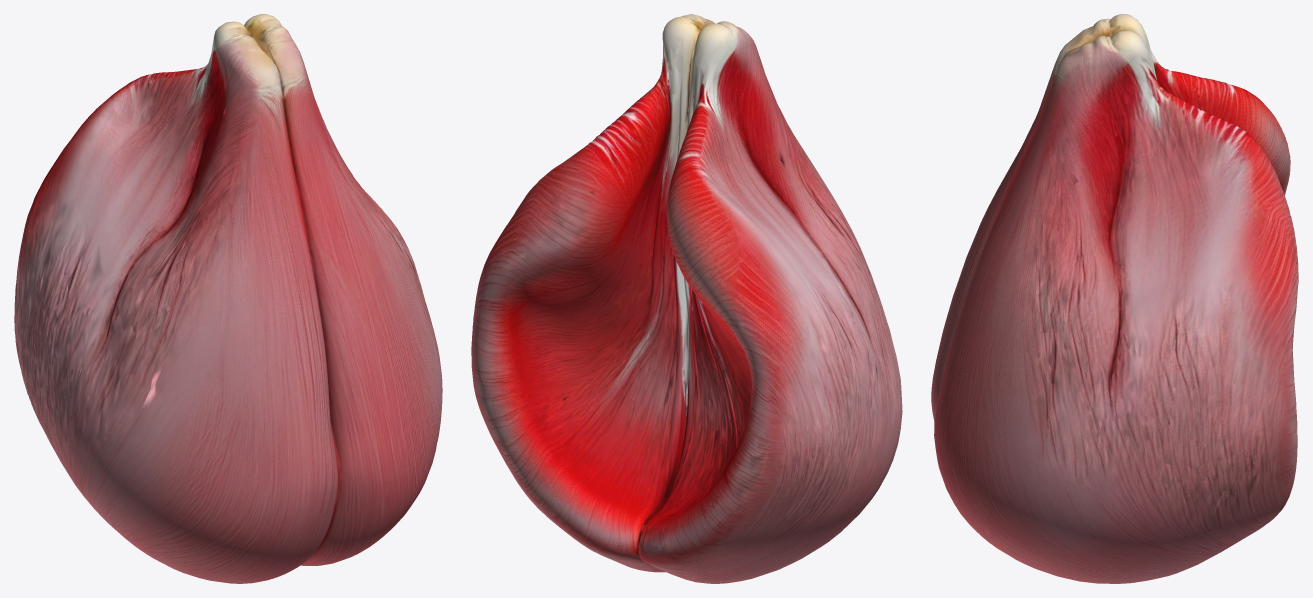
Rendered from deltoid.glb.
3 renders of one model, left to right at view 1: azimuth 30°, elevation 25°; view 2: azimuth 150°, elevation 25°; view 3: azimuth 270°, elevation 25°, orthographic.
Visible parts, largest first — view 1: deltoid; view 2: deltoid; view 3: deltoid.
Part boxes in pixels (bbox=[...]): deltoid: bbox=[14, 14, 442, 583]; deltoid: bbox=[471, 14, 902, 583]; deltoid: bbox=[931, 14, 1298, 583].
Size of the model in its own units: 0.6858 by 1 by 0.6202.
Materials: 1 (1 with a texture image).
